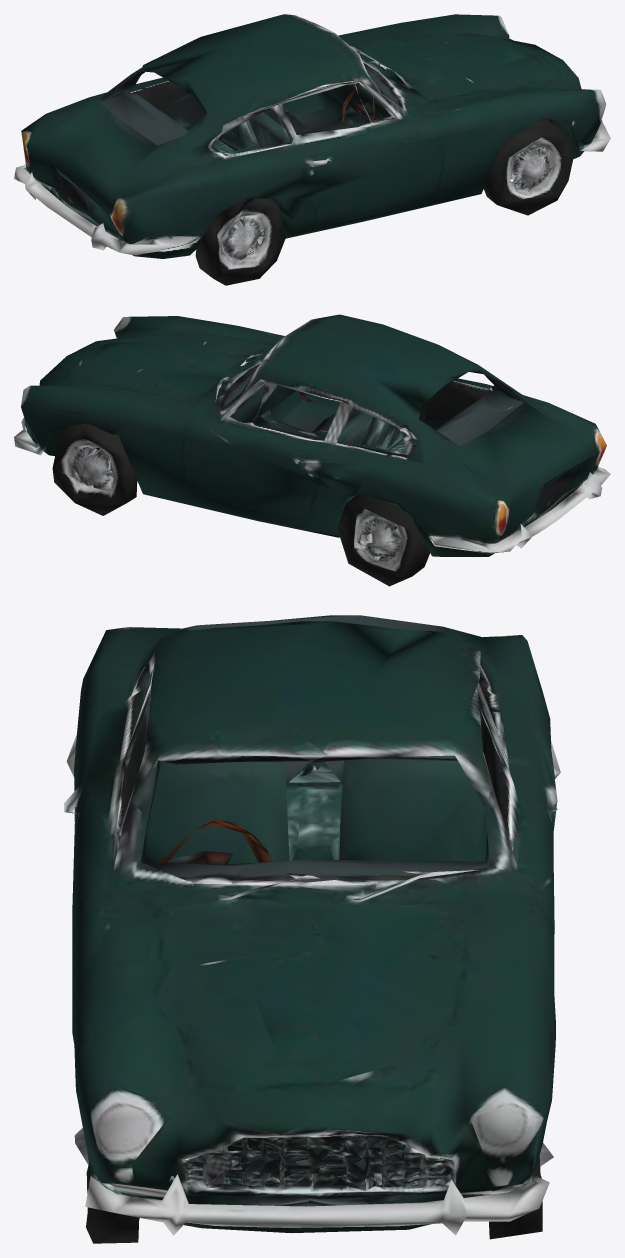
The model's file is car-classic-lod.glb.
3 views of the same model, one above another, from view 1: azimuth 30°, elevation 25°; view 2: azimuth 150°, elevation 25°; view 3: azimuth 270°, elevation 25° (orthographic). The views are drawn at different scales.
Visible parts, largest first — view 1: tripo_node_8573dde1-3f22-4fba-b455-7e010e4c4b22; view 2: tripo_node_8573dde1-3f22-4fba-b455-7e010e4c4b22; view 3: tripo_node_8573dde1-3f22-4fba-b455-7e010e4c4b22.
Boxes of the visible parts, box(x1,y1,x2,y2) form: tripo_node_8573dde1-3f22-4fba-b455-7e010e4c4b22: box(14, 14, 610, 285); tripo_node_8573dde1-3f22-4fba-b455-7e010e4c4b22: box(14, 314, 610, 586); tripo_node_8573dde1-3f22-4fba-b455-7e010e4c4b22: box(64, 615, 560, 1243).
Size of the model in its own units: 0.997 by 0.3316 by 0.4192.
1 material, 1 textured.
